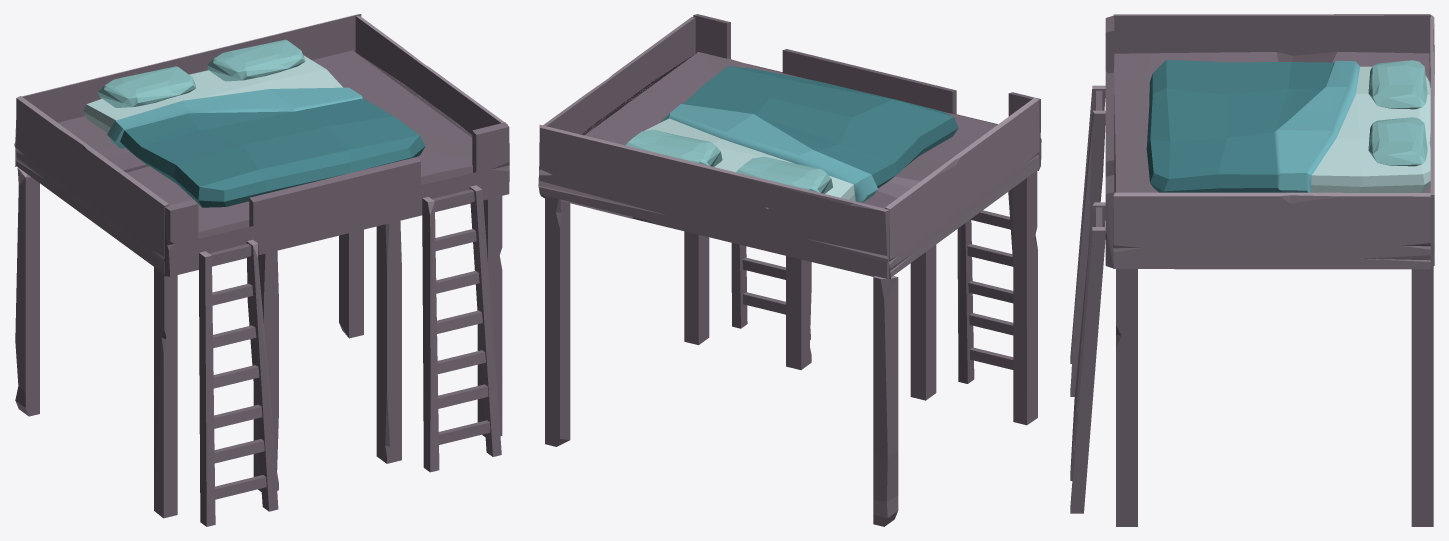
The model's file is Bed_Dubble_high_Blue.fbx.
The picture shows the model from 3 angles, left to right: view 1: azimuth 30°, elevation 25°; view 2: azimuth 150°, elevation 25°; view 3: azimuth 270°, elevation 25°; orthographic projection. The views are drawn at different scales.
Parts seen in each view (by area): view 1: Bed_Dubble_high_blue; view 2: Bed_Dubble_high_blue; view 3: Bed_Dubble_high_blue.
Boxes of the visible parts, bbox=[...] form: Bed_Dubble_high_blue: bbox=[14, 14, 509, 526]; Bed_Dubble_high_blue: bbox=[538, 14, 1041, 526]; Bed_Dubble_high_blue: bbox=[1070, 14, 1434, 526].
Size of the model in its own units: 3.01 by 2.6 by 2.56.
Materials: 1 (1 with a texture image).
